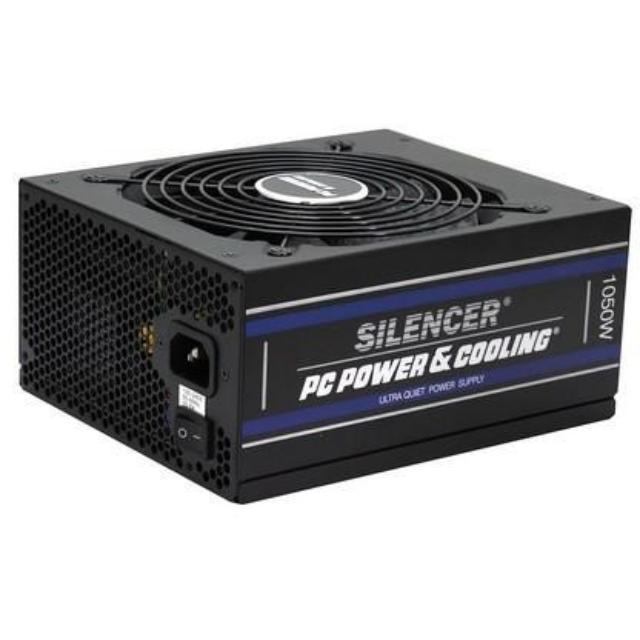PSU: (14, 110, 628, 516)
